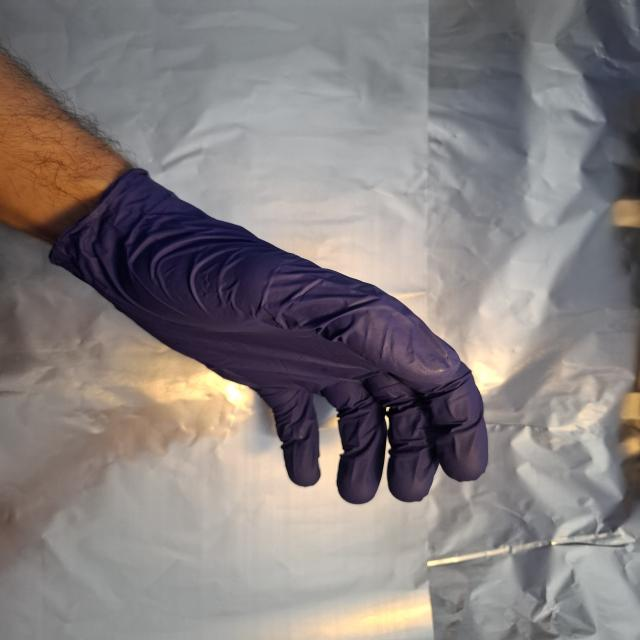glove_on: (53, 170, 494, 508)
